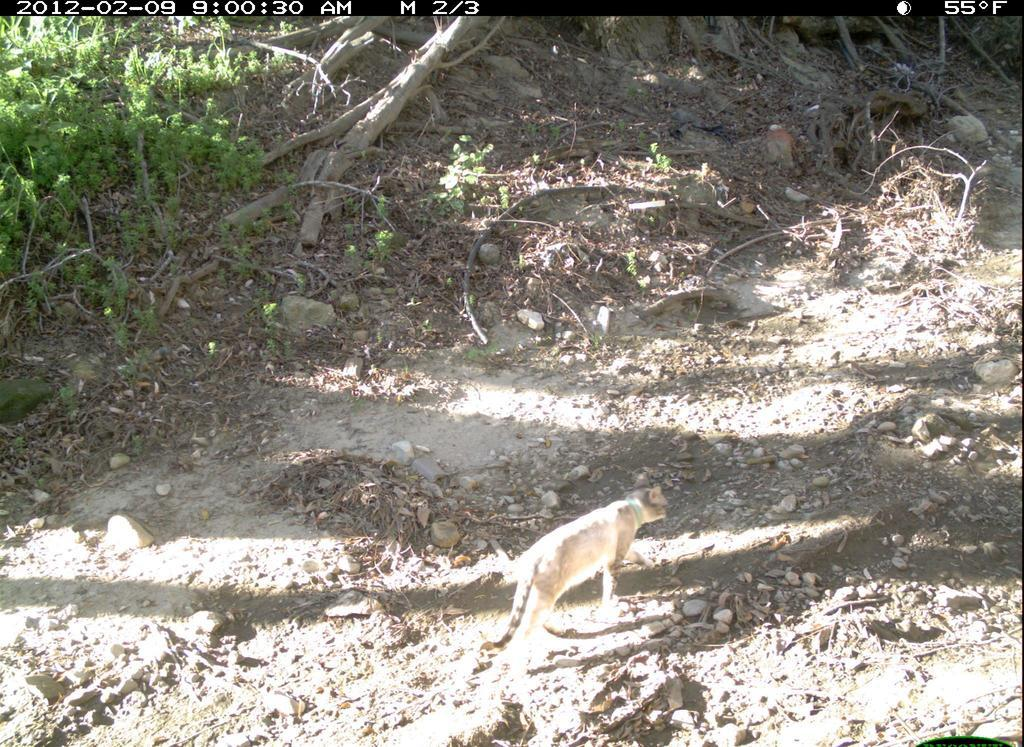cat: (469, 470, 673, 667)
